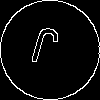J: (25, 25, 62, 76)
